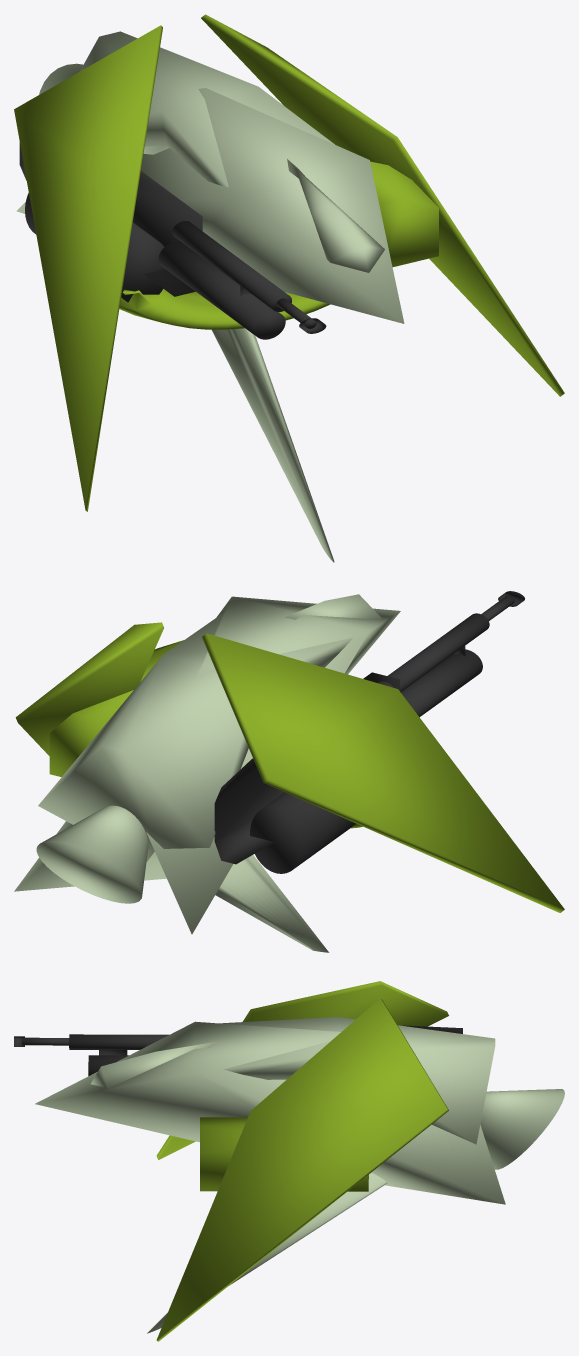
File: Character.obj
3 renders of one model, top to bottom at view 1: azimuth 30°, elevation 25°; view 2: azimuth 150°, elevation 25°; view 3: azimuth 270°, elevation 25°, orthographic. The views are drawn at different scales.
Visible parts, largest first — view 1: 本体_立方体.002, 装甲板_左.001_立方体.001, 武器_円柱.001, 装甲板_左.002_立方体.002, 弾薬箱_立方体.002, トーラス.002; view 2: 本体_立方体.002, 装甲板_左.001_立方体.001, 武器_円柱.001, 装甲板_左.002_立方体.002, 弾薬箱_立方体.002; view 3: 本体_立方体.002, 装甲板_左.002_立方体.002, 装甲板_左.001_立方体.001, 武器_円柱.001, 弾薬箱_立方体.002.
Part boxes in pixels (x1,y1,x2,y2): 本体_立方体.002: (16,31,404,562); 装甲板_左.001_立方体.001: (14,25,162,511); 武器_円柱.001: (19,142,326,339); 装甲板_左.002_立方体.002: (201,14,564,396); 弾薬箱_立方体.002: (370,161,438,266); トーラス.002: (119,289,330,329); 本体_立方体.002: (14,594,400,952); 装甲板_左.001_立方体.001: (202,633,564,912); 武器_円柱.001: (214,591,524,873); 装甲板_左.002_立方体.002: (15,622,163,755); 弾薬箱_立方体.002: (49,640,183,776); 本体_立方体.002: (35,1017,564,1333); 装甲板_左.002_立方体.002: (156,998,448,1341); 装甲板_左.001_立方体.001: (156,981,448,1159); 武器_円柱.001: (14,1025,462,1076); 弾薬箱_立方体.002: (200,1117,368,1191).
Bounding box in the file's own units: 14.65 × 12.7 × 18.49.
